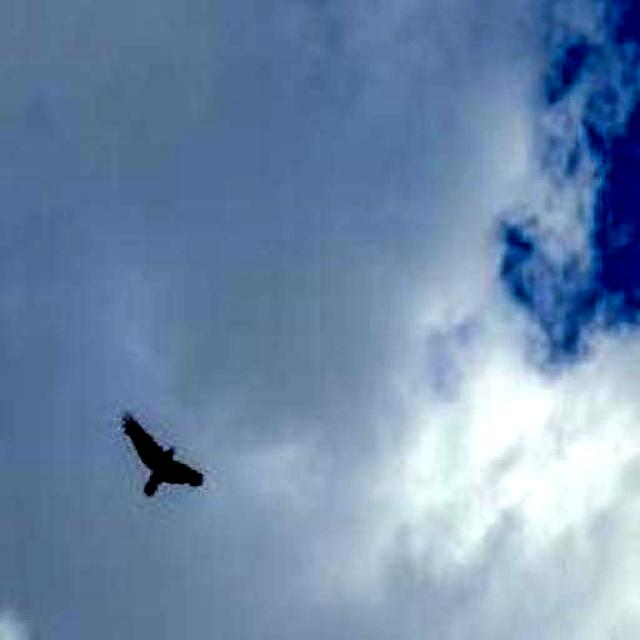airplane: (120, 410, 206, 500)
